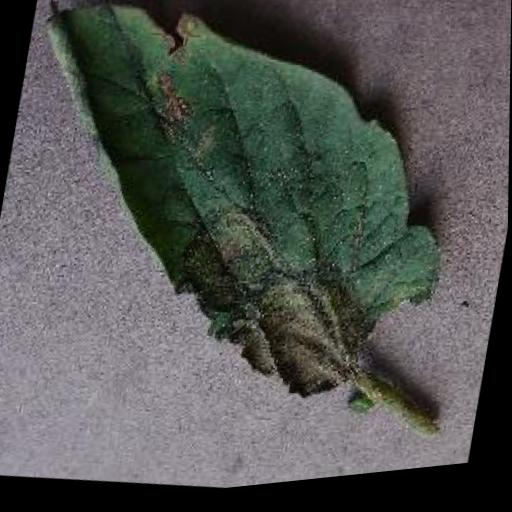Late Blight: (0, 0, 484, 441)
